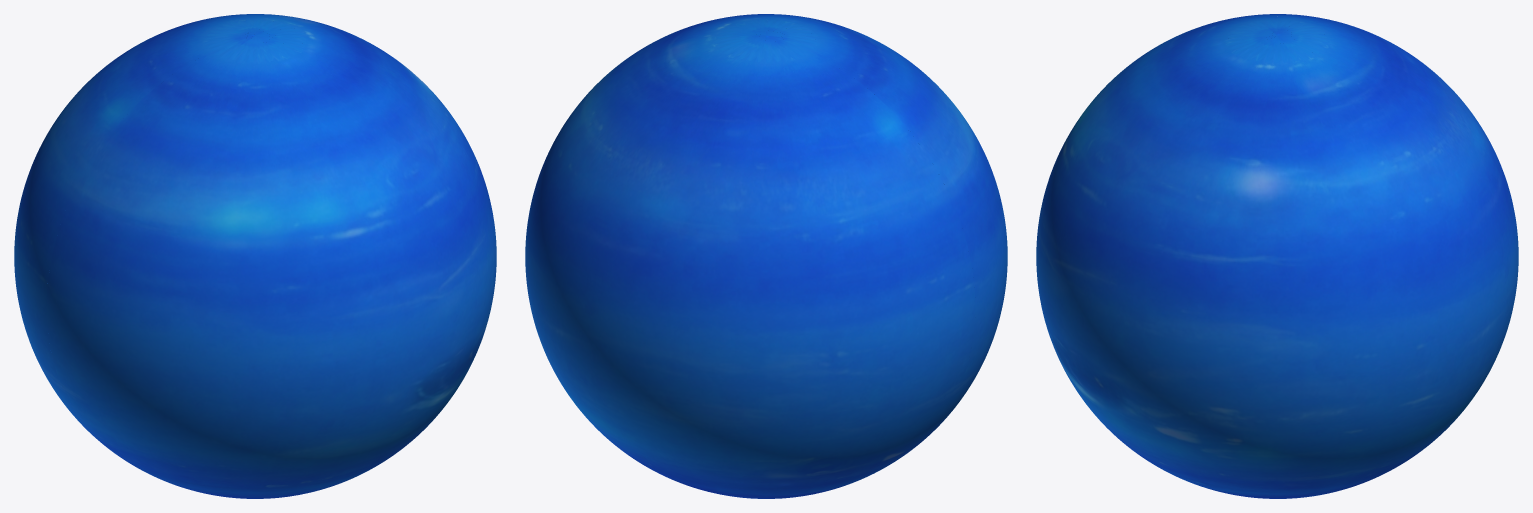
File: neptuneGlb.glb
3 views of the same model, side by side, from view 1: azimuth 30°, elevation 25°; view 2: azimuth 150°, elevation 25°; view 3: azimuth 270°, elevation 25° (orthographic).
Parts seen in each view (by area): view 1: Sphere_2; view 2: Sphere_2; view 3: Sphere_2.
Part boxes in pixels (<box>): Sphere_2: <box>14,14,496,498</box>; Sphere_2: <box>525,14,1007,498</box>; Sphere_2: <box>1036,14,1518,498</box>.
Size of the model in its own units: 9.08 by 9.17 by 9.08.
Materials: 1 (1 with a texture image).
